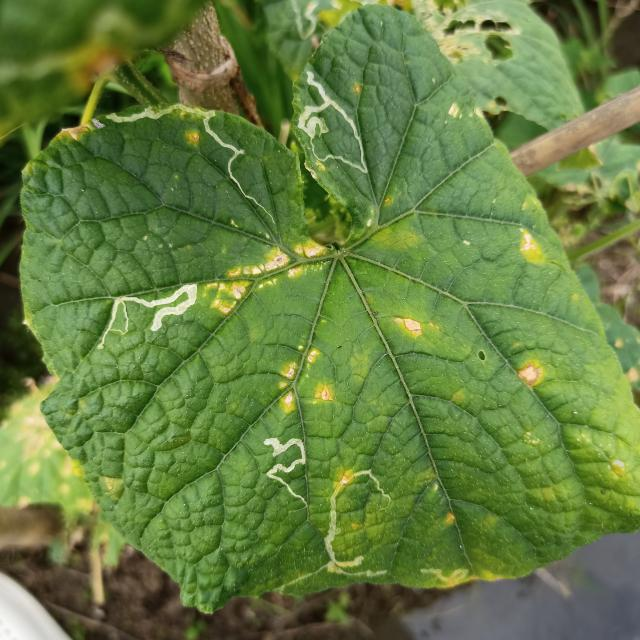disease_cucumber: (201, 239, 321, 317), (274, 344, 332, 414), (440, 100, 488, 129), (517, 226, 546, 267), (394, 314, 424, 336), (519, 360, 541, 389), (185, 128, 200, 148)
